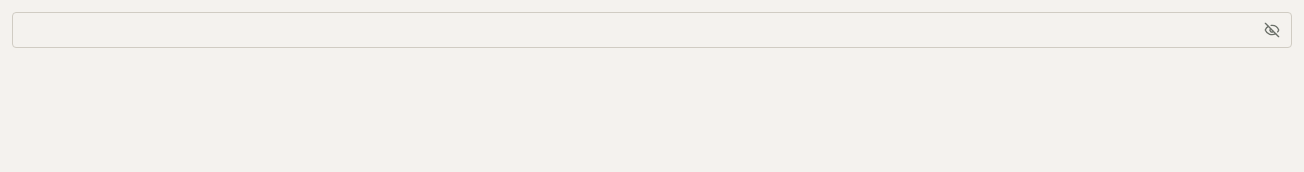
PasswordInput › começa oculto e alterna visibilidade sem submeter formulário
The image size is (1304, 172).
Later steps or results of the test are not shown.
Click the button named "Mostrar senha". click: (1272, 30)
box: [1252,12,1292,48]
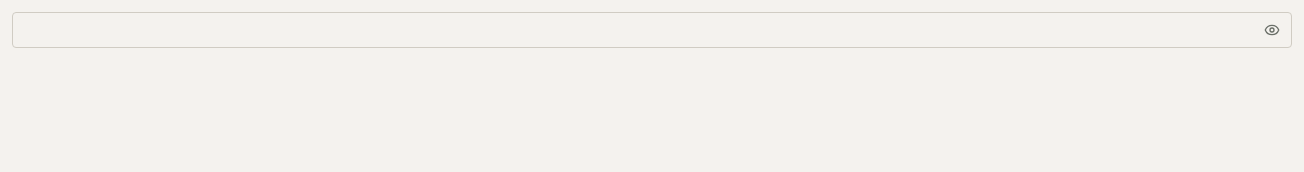
Check: the button named "Ocultar senha" has attribute aria-label="Ocultar senha", box [1252,12,1292,48]
